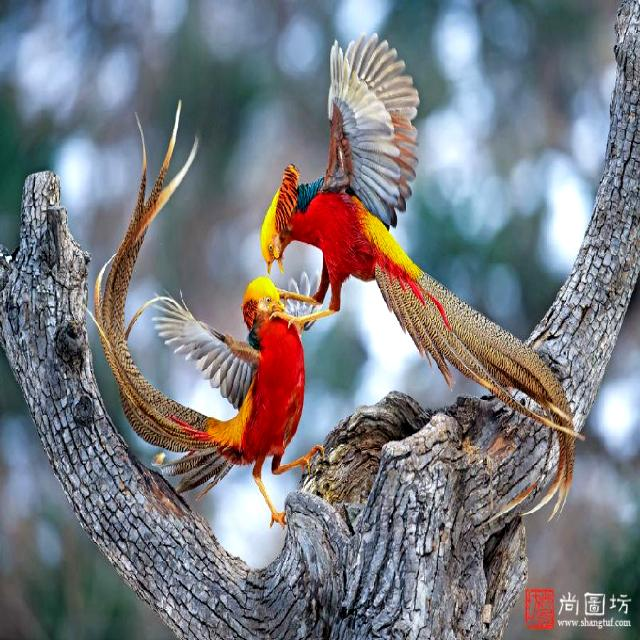Chrysolophus pictus feather: (94, 133, 215, 455), (375, 270, 576, 444), (176, 459, 228, 491)
